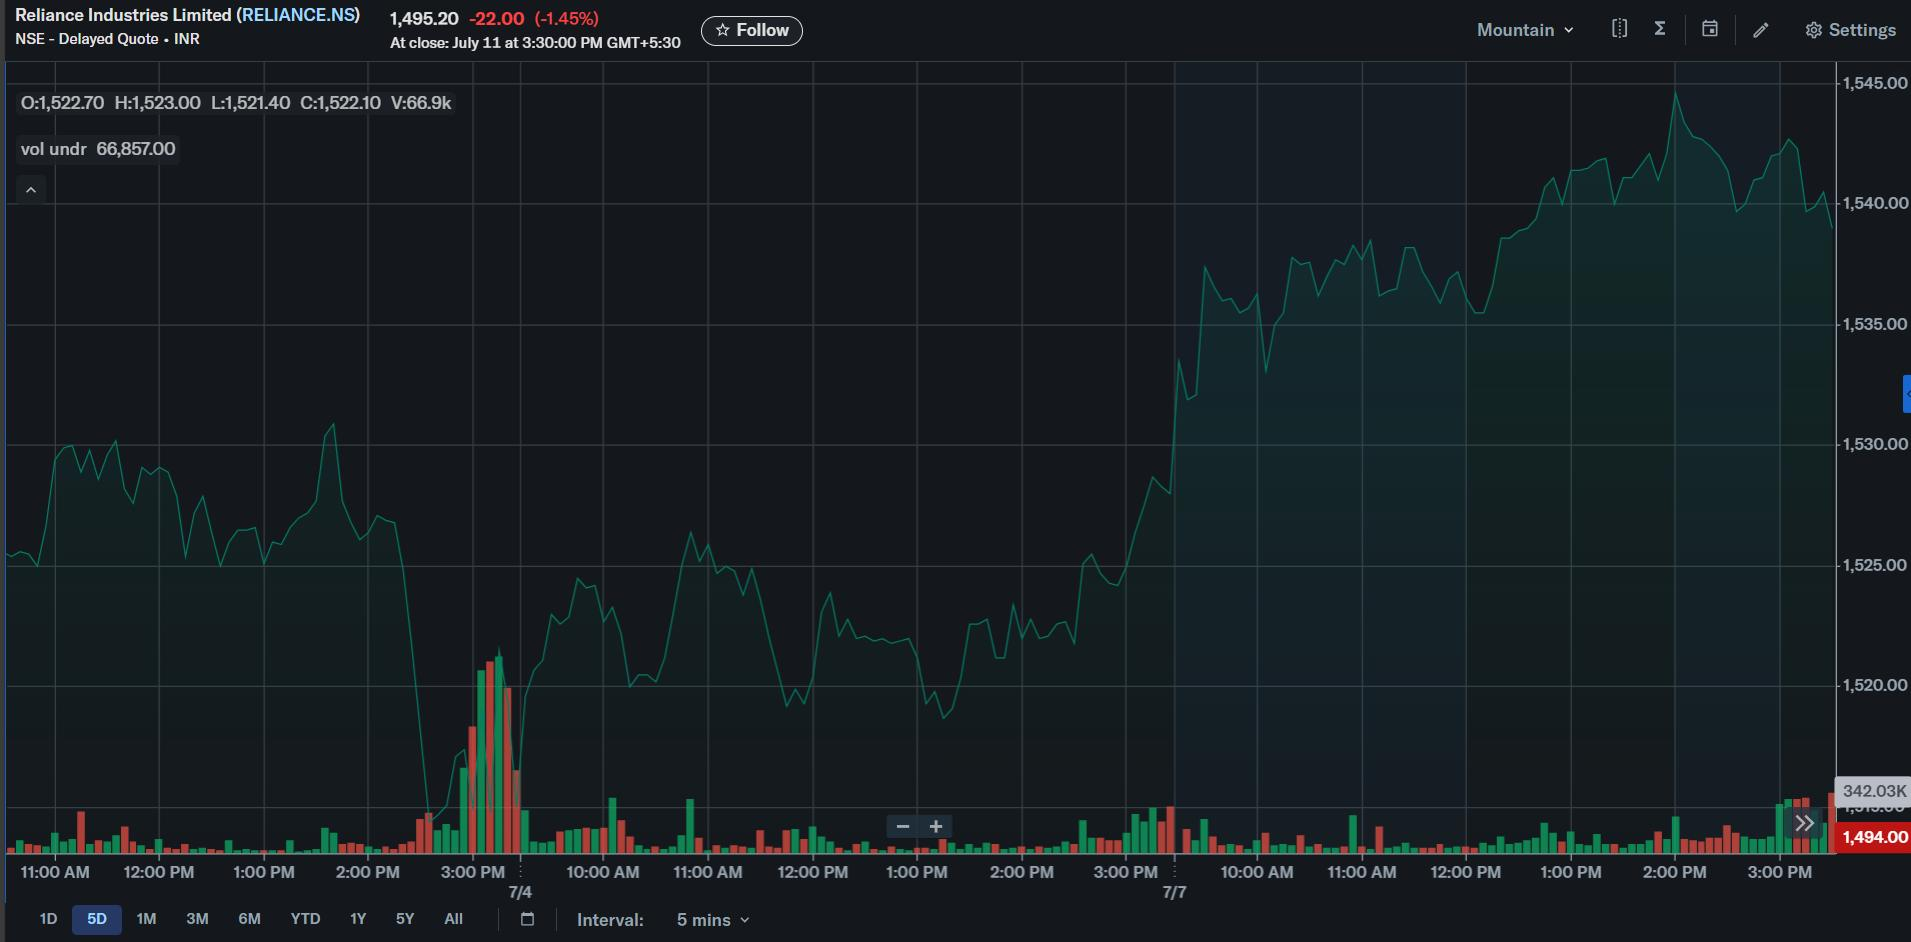Downtrend: (358, 490, 445, 824), (753, 530, 808, 725)
Sideways: (35, 431, 185, 581)
Uptrend: (1475, 80, 1683, 331), (1110, 228, 1221, 619), (261, 402, 335, 592), (650, 506, 700, 713)
